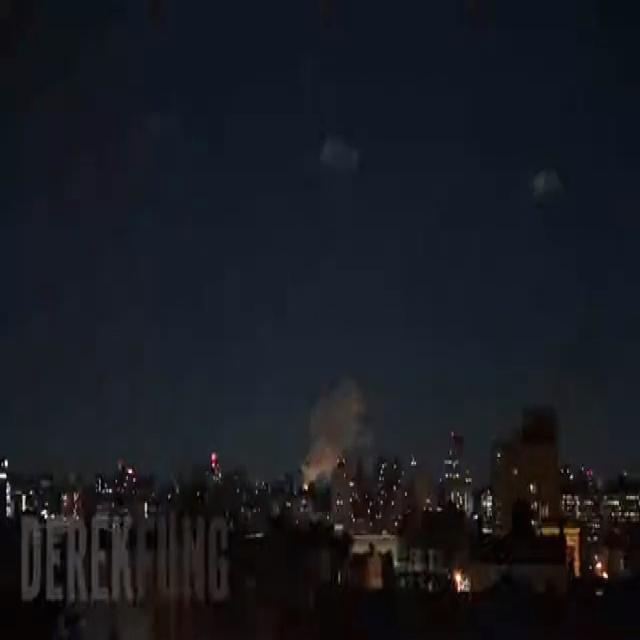smoke: (302, 379, 373, 480)
